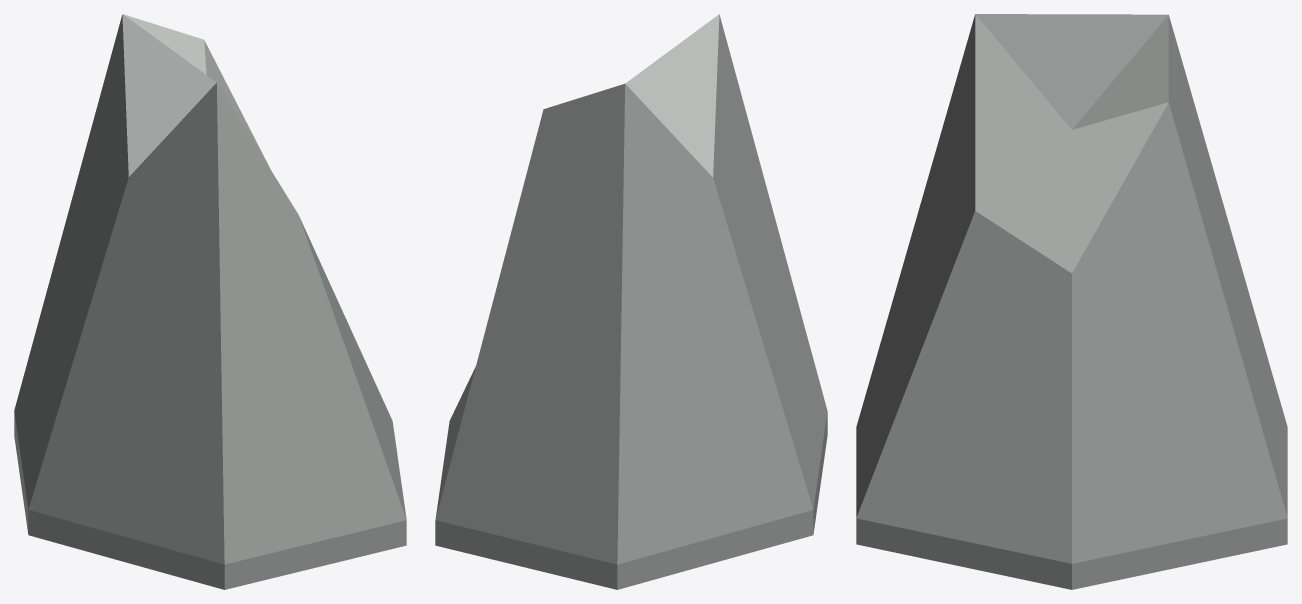
Rendered from Mountain3.fbx.
3 renders of one model, left to right at view 1: azimuth 30°, elevation 25°; view 2: azimuth 150°, elevation 25°; view 3: azimuth 270°, elevation 25°, orthographic. The views are drawn at different scales.
Parts seen in each view (by area): view 1: Mountain3; view 2: Mountain3; view 3: Mountain3.
Part boxes in pixels (x1,y1,x2,y2): Mountain3: [14, 14, 406, 589]; Mountain3: [435, 14, 827, 589]; Mountain3: [856, 14, 1287, 589].
Size of the model in its own units: 1500 by 1782 by 1500.
